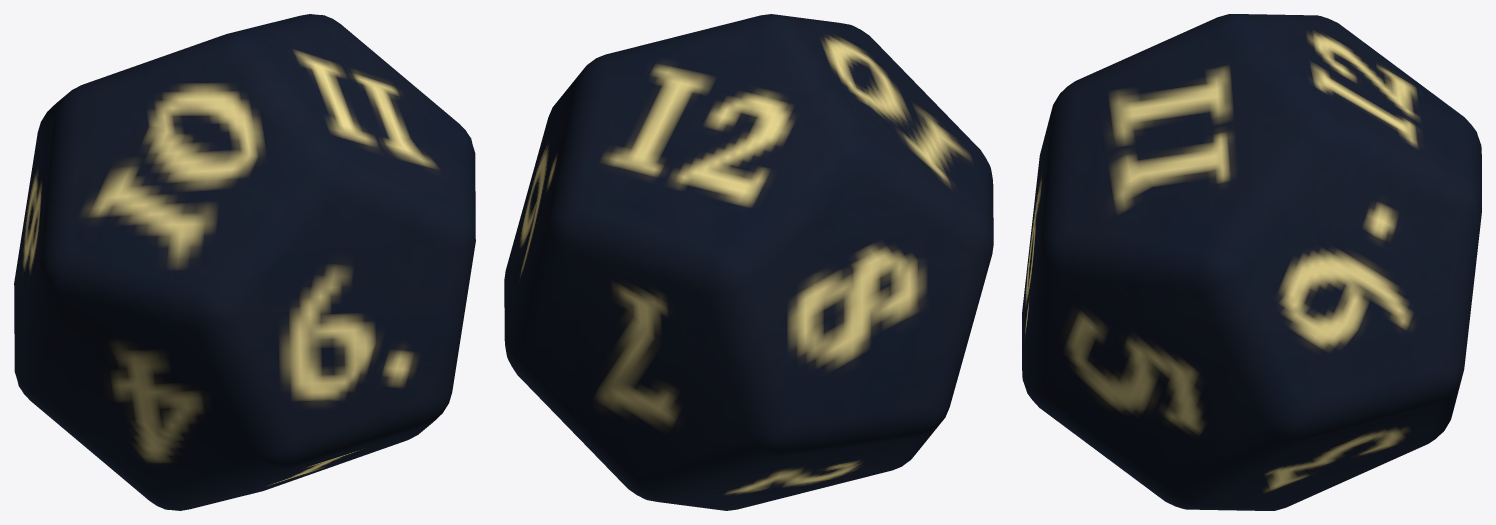
3 views of the same model, side by side, from view 1: azimuth 30°, elevation 25°; view 2: azimuth 150°, elevation 25°; view 3: azimuth 270°, elevation 25° (orthographic). The views are drawn at different scales.
Parts seen in each view (by area): view 1: D12_LP; view 2: D12_LP; view 3: D12_LP.
Boxes of the visible parts, left/top/right/bottom form: D12_LP: left=14, top=14, right=475, bottom=510; D12_LP: left=504, top=14, right=993, bottom=510; D12_LP: left=1022, top=14, right=1481, bottom=510.
Size of the model in its own units: 0.0101 by 0.0105 by 0.00918.
Materials: 1 (1 with a texture image).
